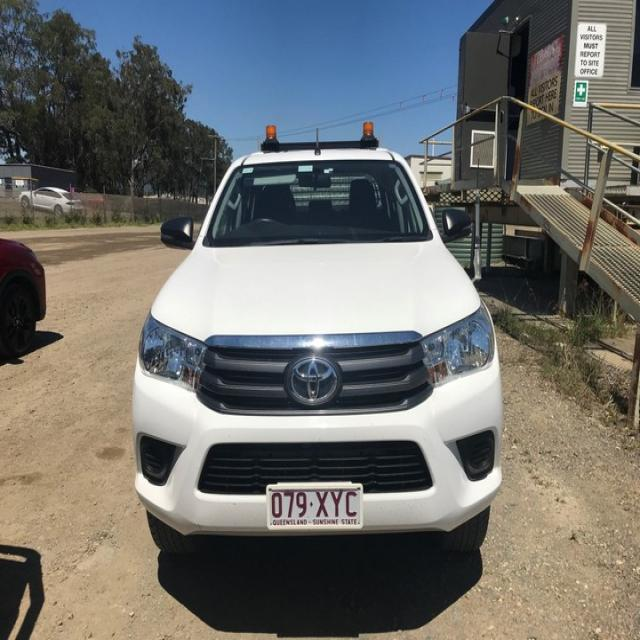light_vehicle: (125, 117, 503, 569)
